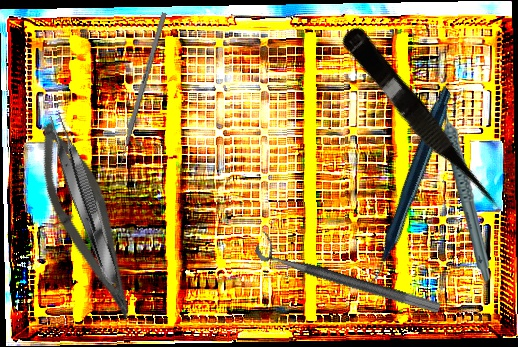Fixation Ring: (252, 230, 447, 315)
Handpiece: (298, 84, 515, 288), (443, 94, 492, 282)
Micro Scissor: (334, 23, 509, 224), (18, 114, 160, 329)
Pusher: (114, 11, 167, 179)
Tissue Forceps: (42, 110, 125, 289)
